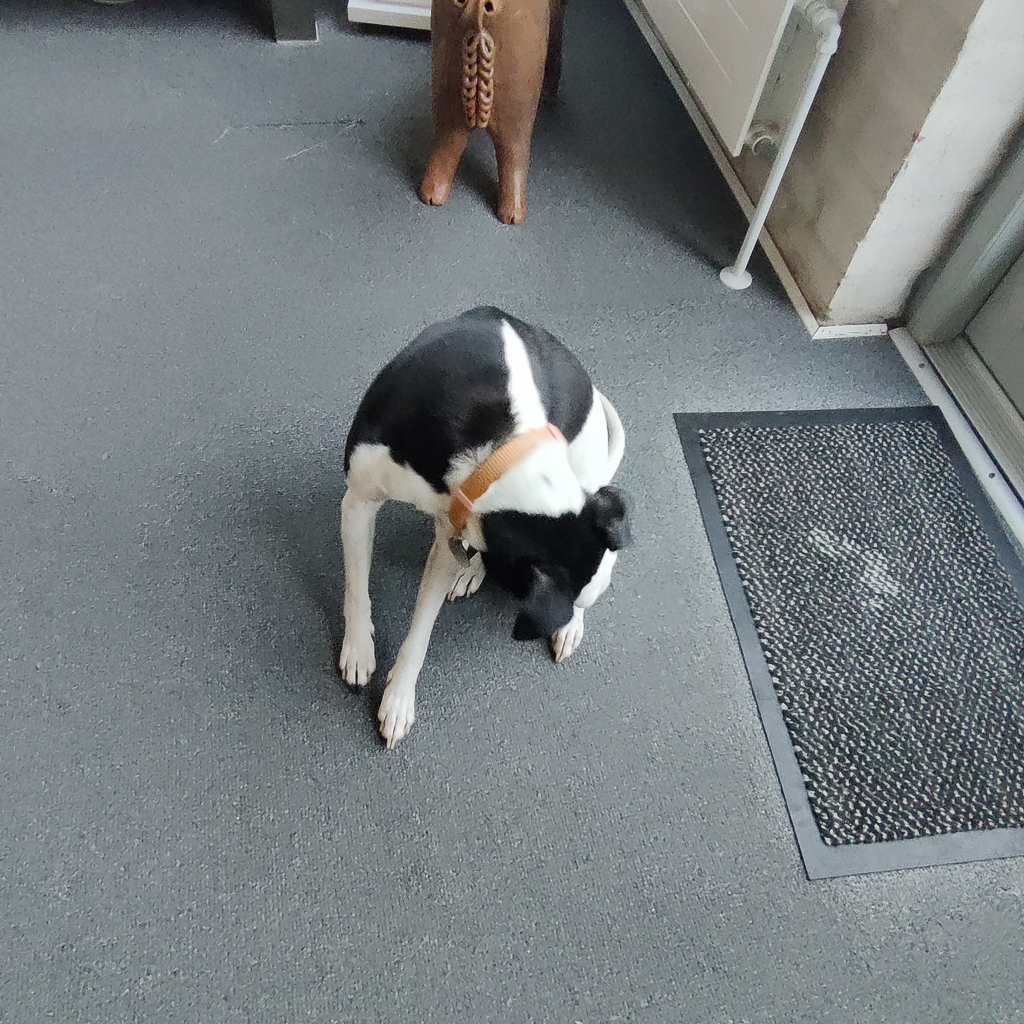Cattle: (393, 0, 612, 235)
Dog: (245, 286, 673, 789)
